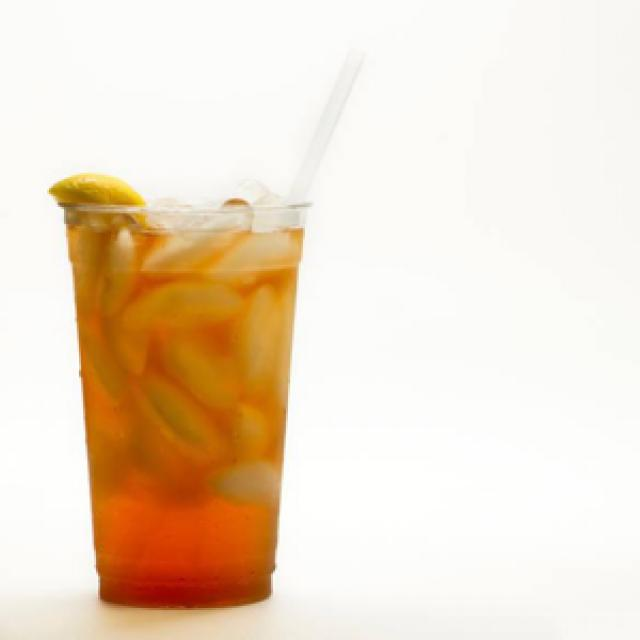plastic cup: (47, 186, 320, 616)
